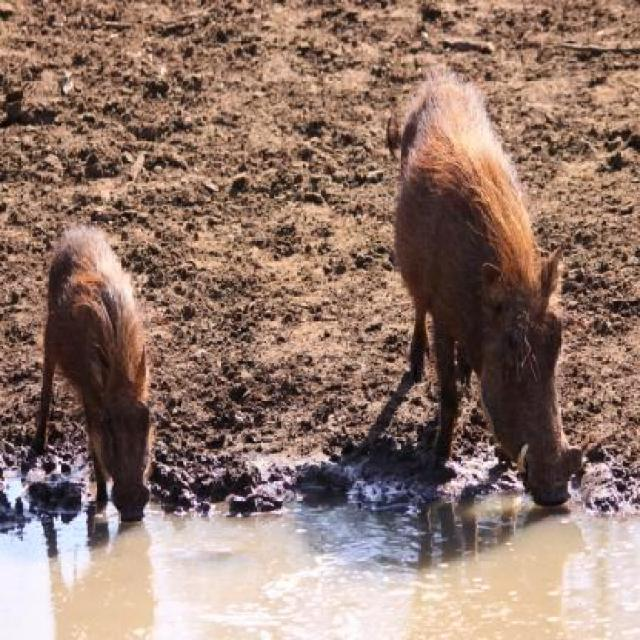Boar: (391, 62, 583, 510), (25, 223, 152, 523)
